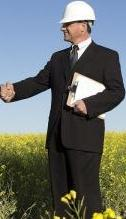hard-hat: (58, 0, 95, 24)
ppe-suit: (0, 25, 43, 218)
